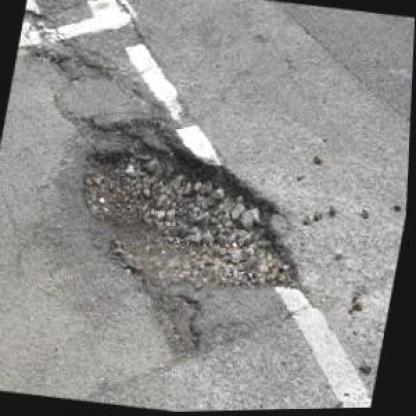pothole: (64, 114, 330, 309), (152, 288, 216, 367), (29, 37, 115, 89)
